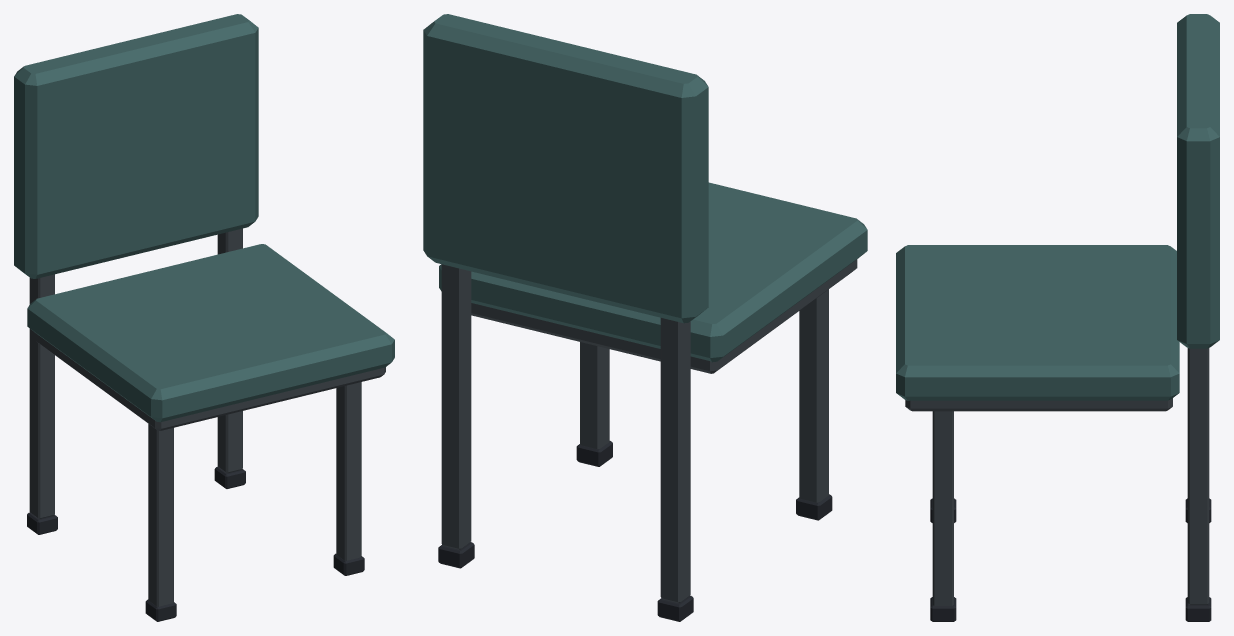
File: chair_001.glb
3 views of the same model, side by side, from view 1: azimuth 30°, elevation 25°; view 2: azimuth 150°, elevation 25°; view 3: azimuth 270°, elevation 25° (orthographic). The views are drawn at different scales.
Parts seen in each view (by area): view 1: CHAIR_BACK, CHAIR_SEAT, CHAIR_FRAME; view 2: CHAIR_BACK, CHAIR_FRAME, CHAIR_SEAT; view 3: CHAIR_SEAT, CHAIR_BACK, CHAIR_FRAME.
Boxes of the visible parts, left/top/right/bottom form: CHAIR_BACK: left=14, top=14, right=258, bottom=278; CHAIR_SEAT: left=27, top=244, right=394, bottom=430; CHAIR_FRAME: left=27, top=228, right=364, bottom=621; CHAIR_BACK: left=423, top=14, right=708, bottom=323; CHAIR_FRAME: left=438, top=264, right=832, bottom=621; CHAIR_SEAT: left=439, top=182, right=867, bottom=373; CHAIR_SEAT: left=896, top=245, right=1179, bottom=411; CHAIR_BACK: left=1177, top=14, right=1219, bottom=348; CHAIR_FRAME: left=930, top=348, right=1211, bottom=621.
Size of the model in its own units: 0.48 by 0.87 by 0.514.
